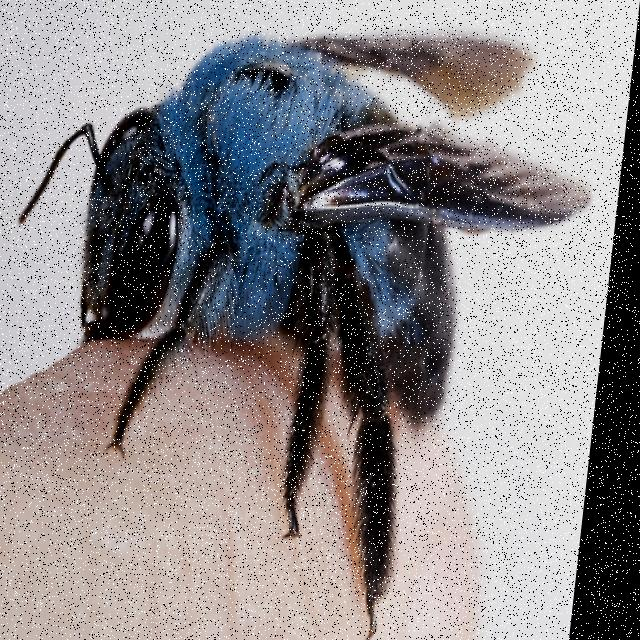Allodapula: (5, 5, 576, 606)
